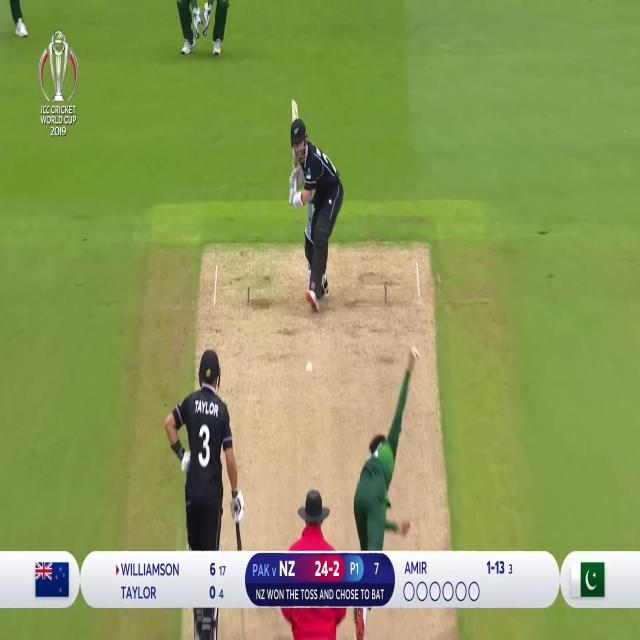bat: (287, 95, 300, 126), (239, 603, 249, 640)
